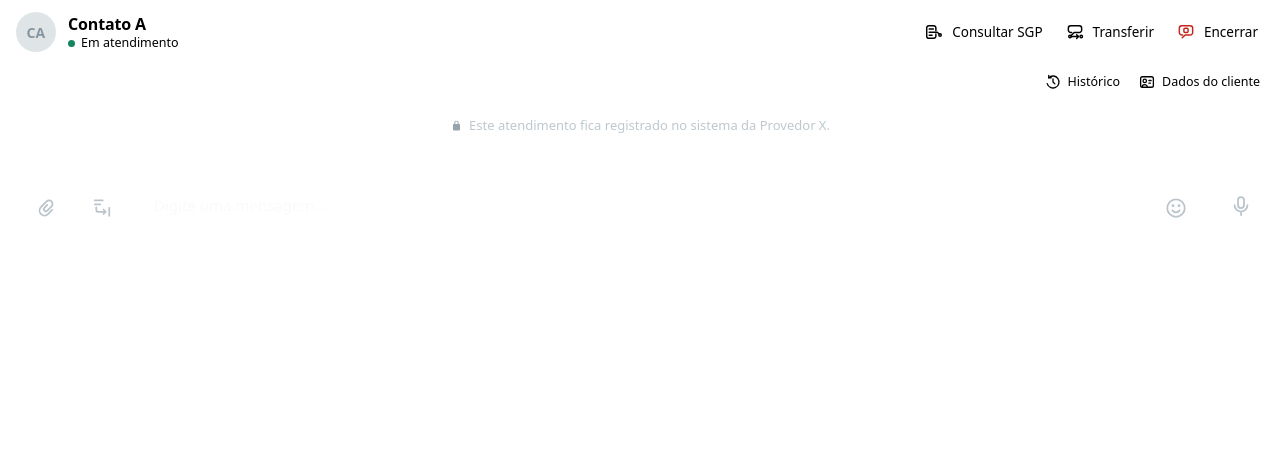
Test: Dados do cliente na mesa › trocar de conversa fecha o painel
The width and height of the screenshot is (1280, 464).
Click the button "Dados do cliente".
click(1199, 82)  # box [1130,66,1268,98]
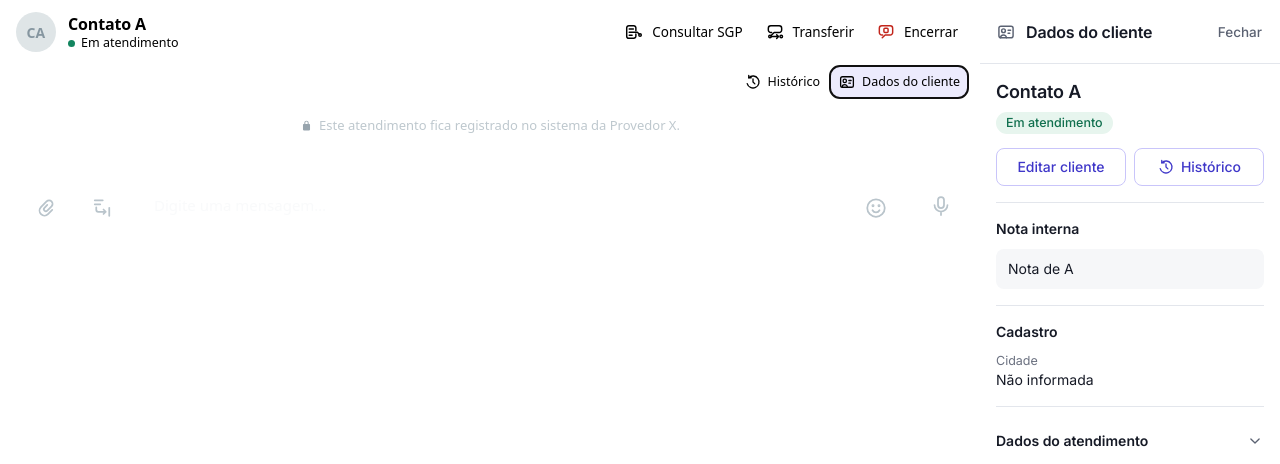
Result: the text "Nota de A" is shown at [996,249,1264,289]
